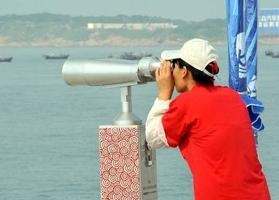person without safety: (145, 37, 264, 186)
